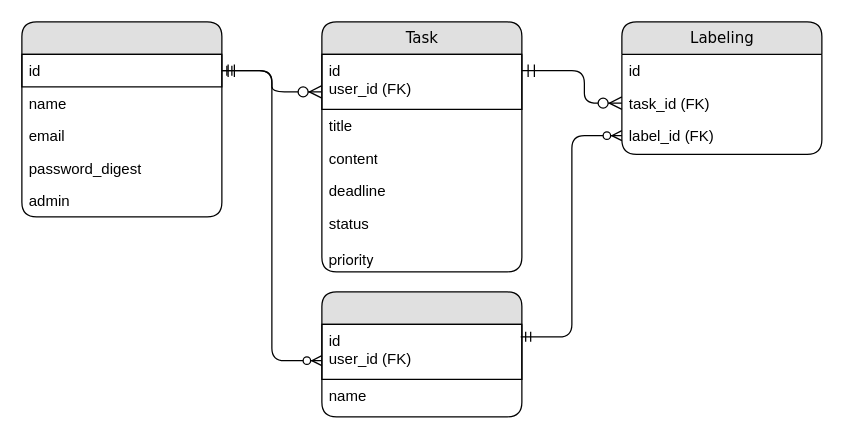
This 844x439 diagram has some shape labels left out. Each missing label, with the box of its shape:
Label: (321, 291, 522, 417)
User: (21, 21, 222, 217)
